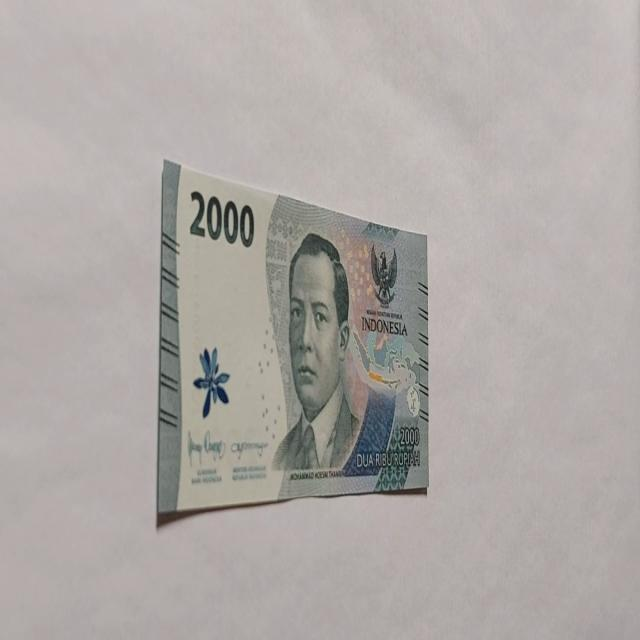dua ribu rupiah: (156, 158, 430, 524), (270, 230, 364, 478)
